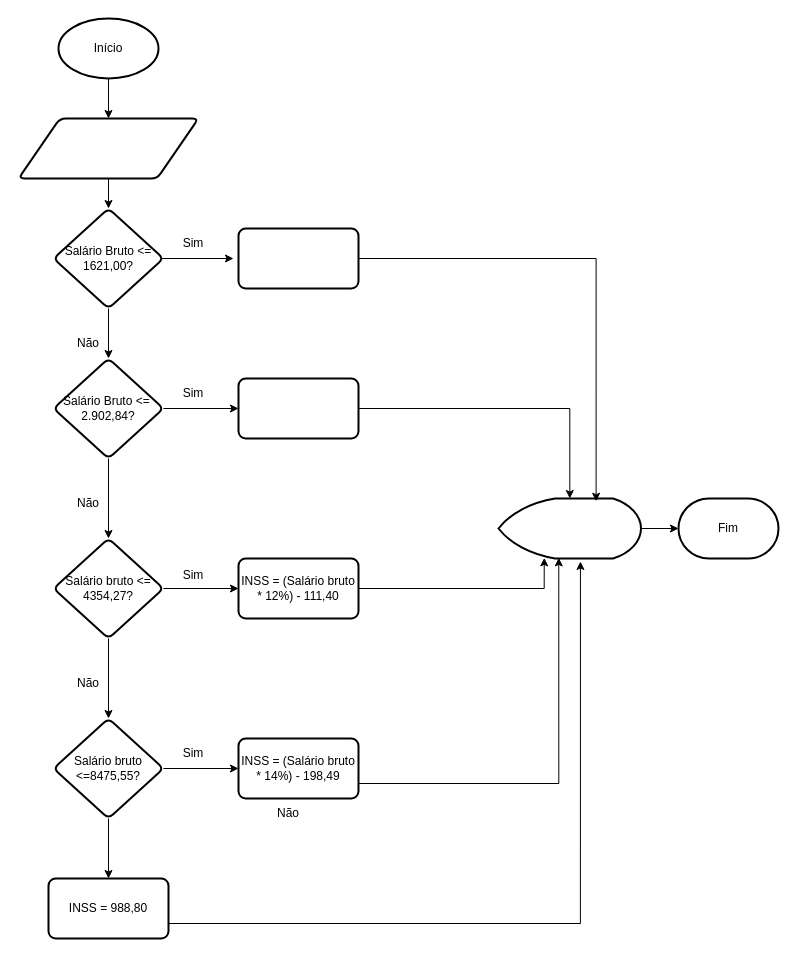
Image size: 796x956. Some labels were removed from this diagram. The shapes that lost their labels are listed below. From the top down, each one's centre as x and y in pixels, then its label:
At (108,148): "Leia Salário".
At (298,258): "INSS = (salário bruto * 7,5%)".
At (298,408): "INSS = (Salário bruto * 9%) - 24,32".
At (569,528): "Exibir INSS".
